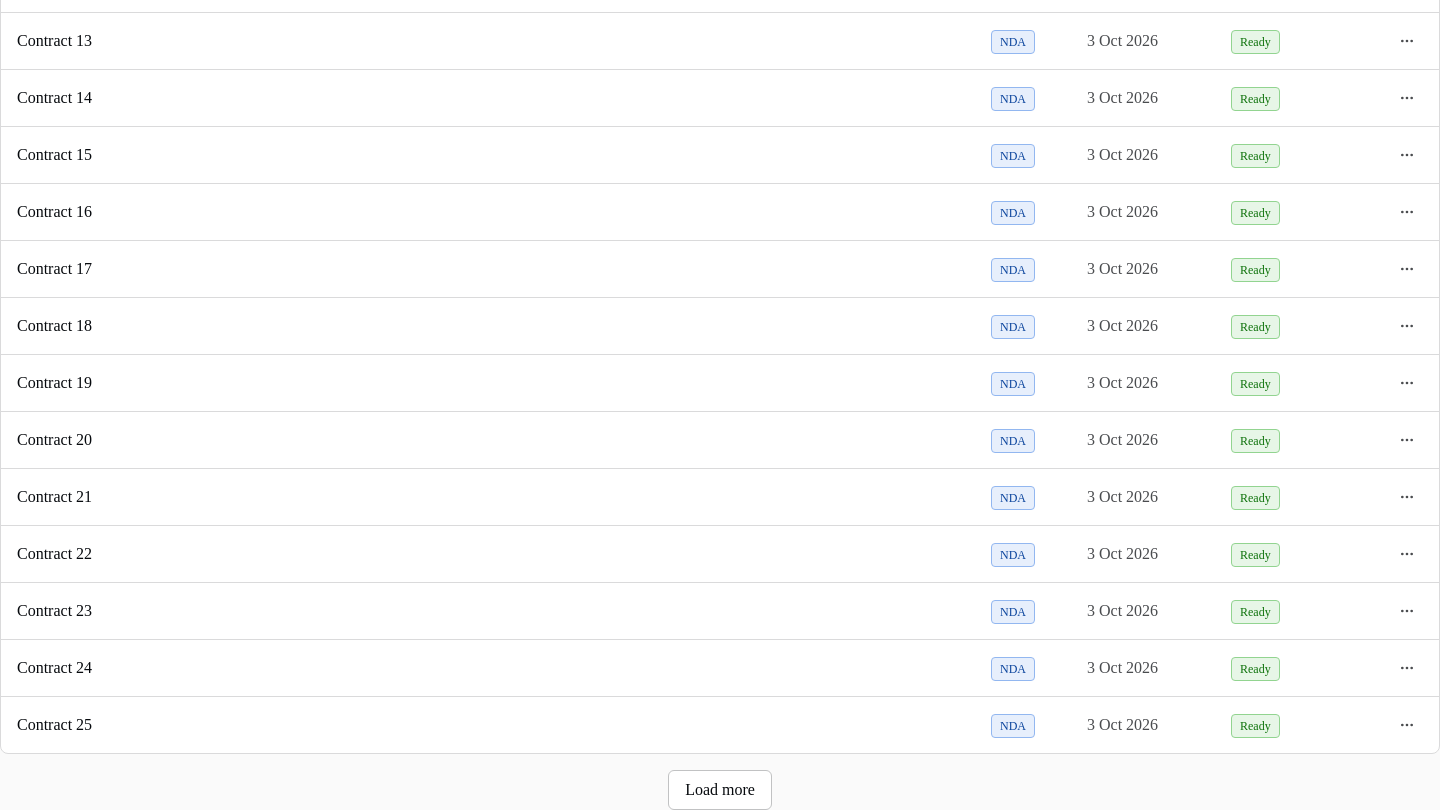
Test: ContractsTable › loads 25 more and stops at the total
(page scrolled)
Click the button "Load more" at (720, 790), box [668,770,772,809]
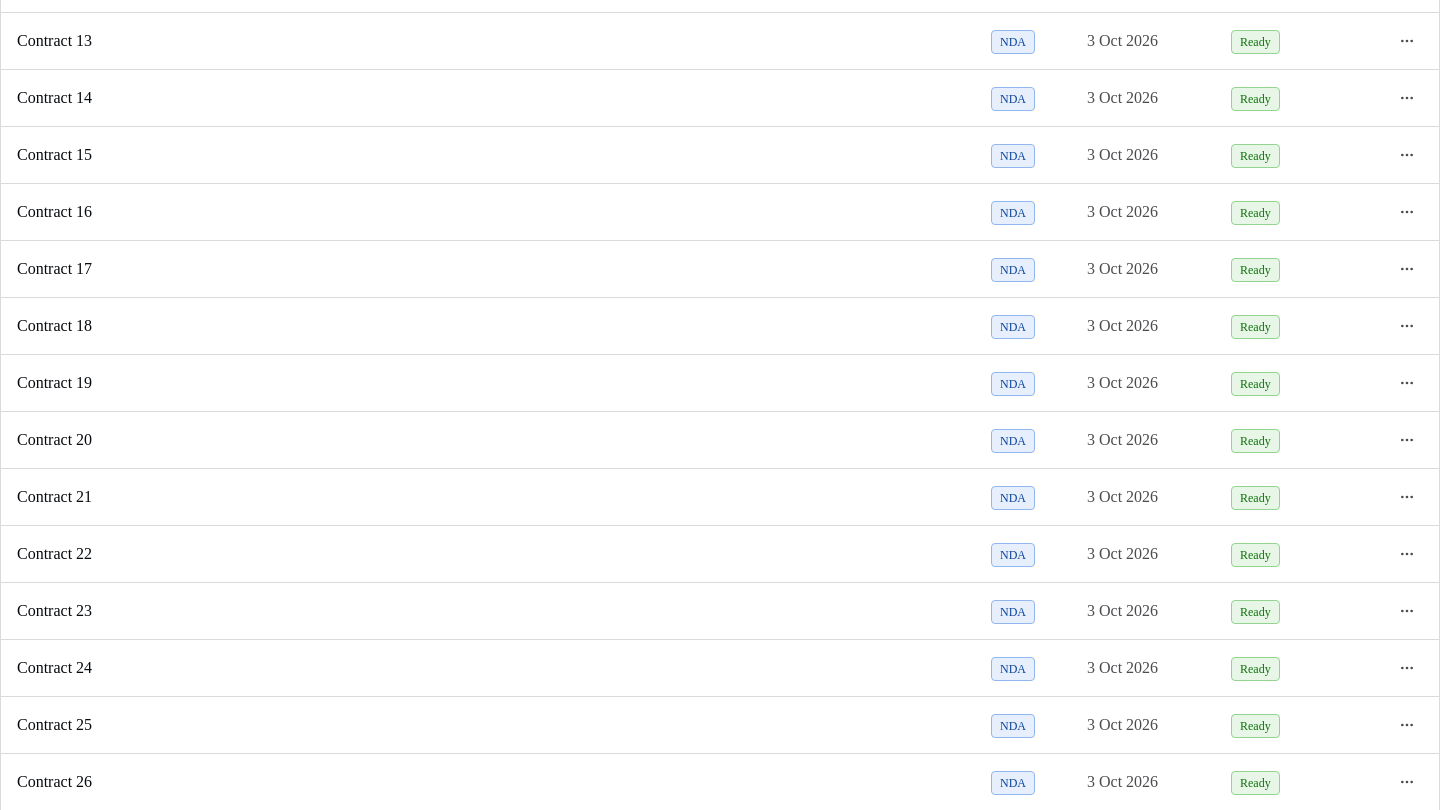
Expected: the button "Load more" is gone
